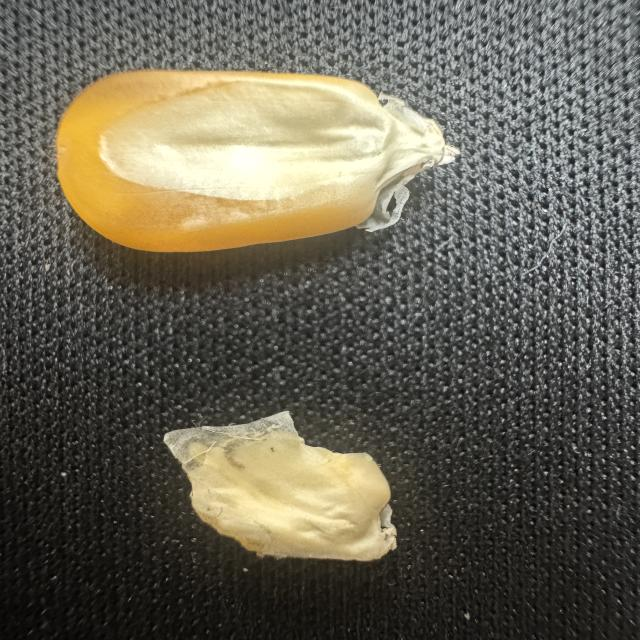Bad-Seed: (153, 396, 428, 583)
Good-Seed: (39, 66, 452, 256)
